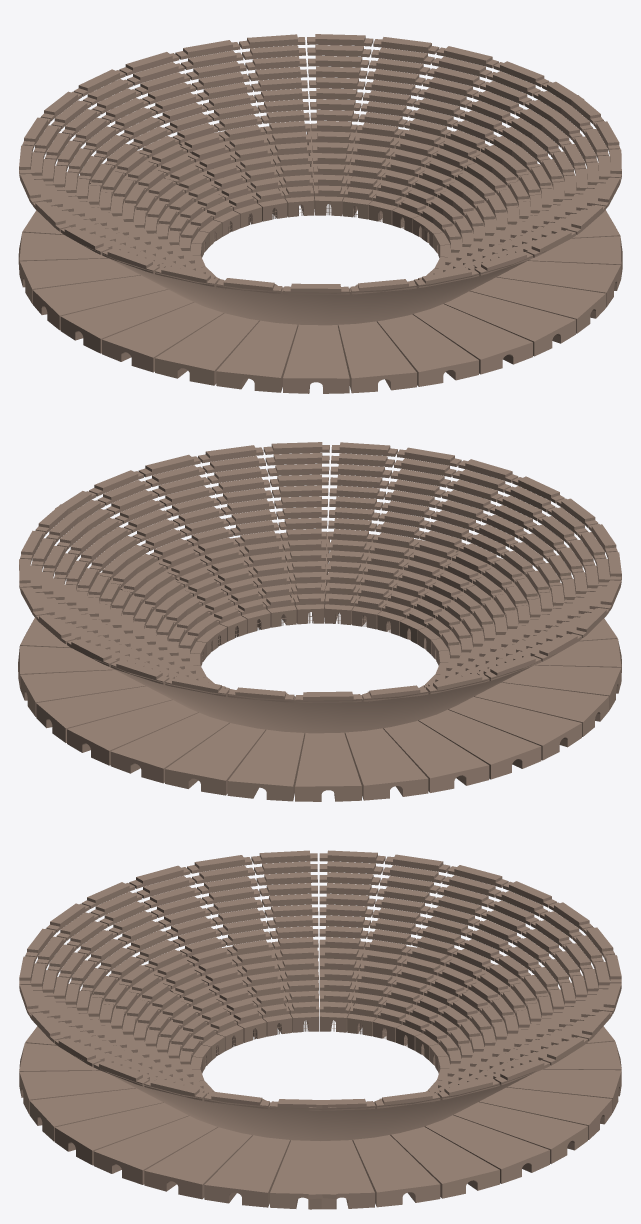
The model's file is Stadium_Section_GLTF.glb.
The picture shows the model from 3 angles, top to bottom: view 1: azimuth 30°, elevation 25°; view 2: azimuth 150°, elevation 25°; view 3: azimuth 270°, elevation 25°; orthographic projection.
Size of the model in its own units: 539 by 218 by 539.
